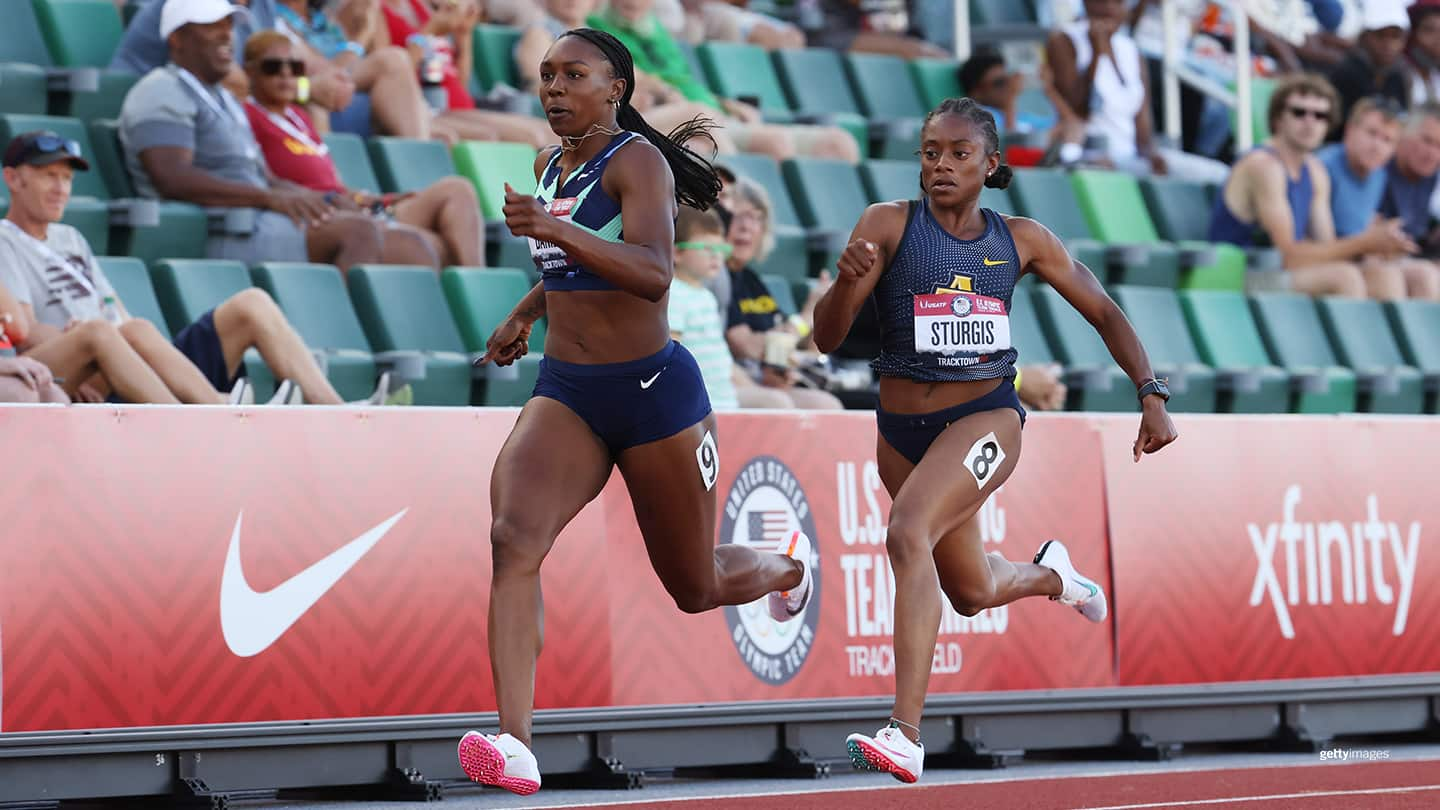runner: (446, 27, 819, 802), (809, 95, 1184, 777)
